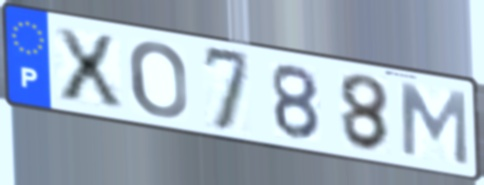7: (200, 42, 253, 136)
8: (337, 71, 394, 155), (269, 61, 323, 143)
M: (398, 80, 471, 169)
O: (126, 39, 190, 120)
X: (51, 24, 126, 110)
